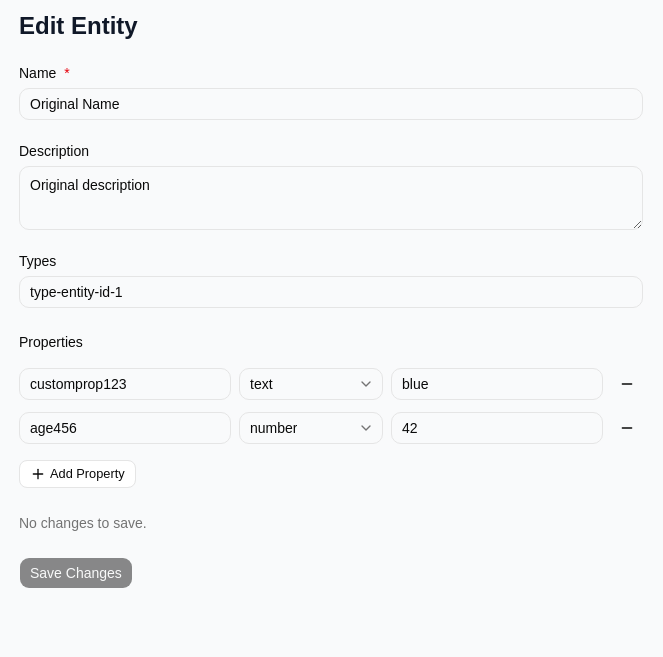
Test case: EditEntityPage › error handling › preserves user edits after error
Replace the text in the field with test id "entity-name-input" with "Changed Name" at (331, 104), box [19, 88, 643, 120]
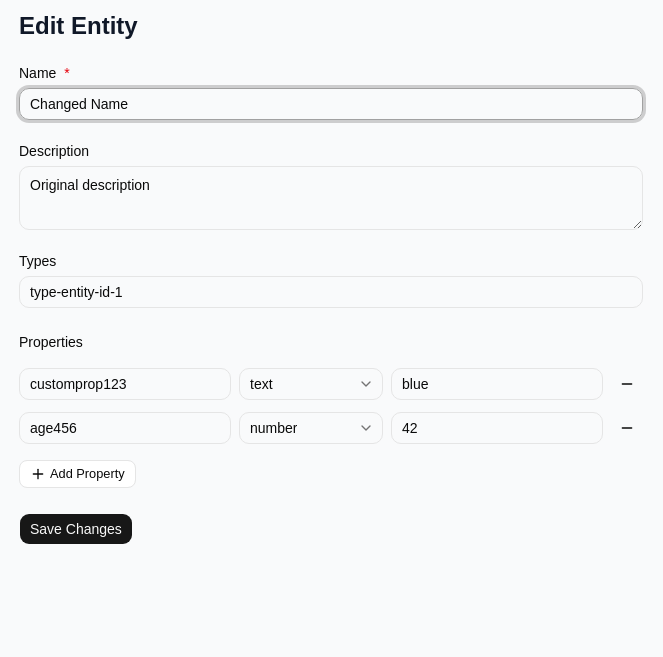
Click the button with test id "entity-submit" at (76, 529), box [19, 513, 133, 545]
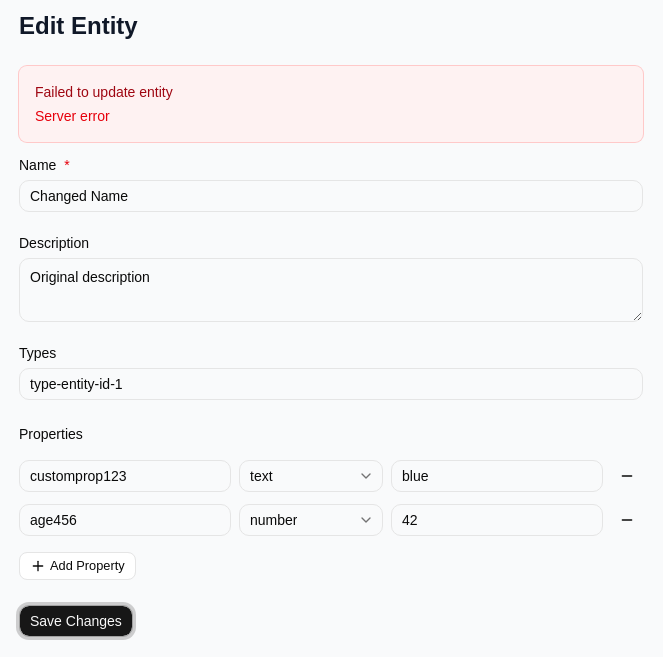
Check: the element with test id "edit-error" is shown, box [19, 66, 643, 142]
